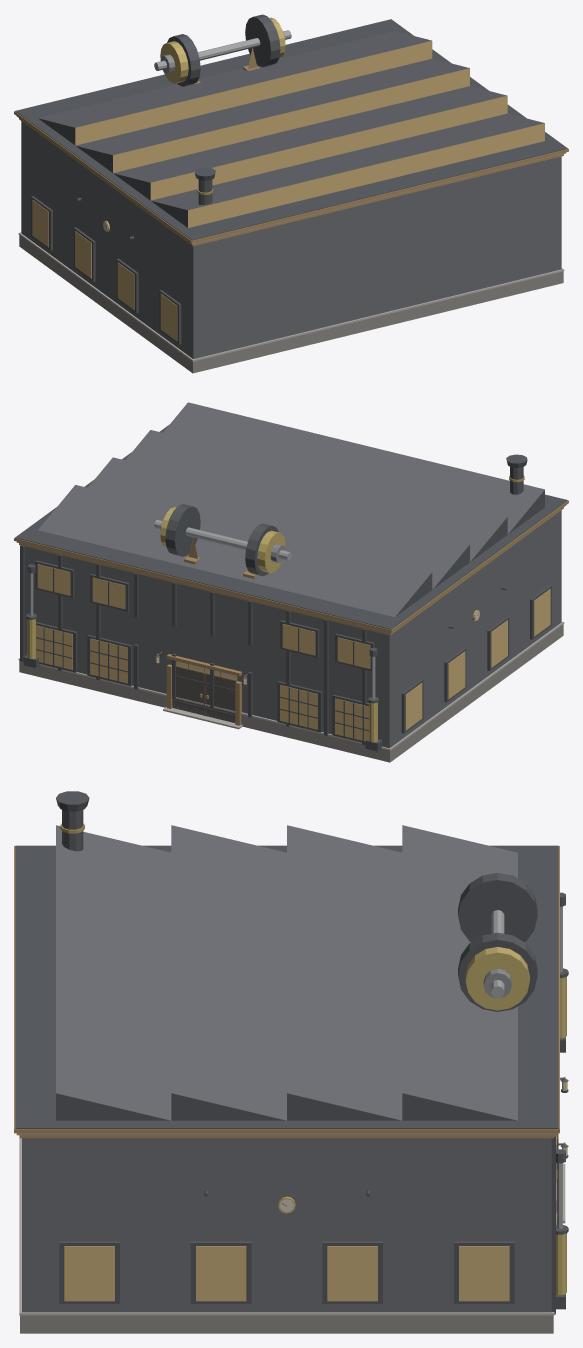
Rendered from centro-academia-68ebeff3.glb.
3 renders of one model, top to bottom at view 1: azimuth 30°, elevation 25°; view 2: azimuth 150°, elevation 25°; view 3: azimuth 270°, elevation 25°, orthographic. The views are drawn at different scales.
Visible parts, largest first — view 1: centro_academia_body, centro_academia_lamp, centro_academia_wall, centro_academia_glow; view 2: centro_academia_body, centro_academia_lamp, centro_academia_wall, centro_academia_glow; view 3: centro_academia_body, centro_academia_lamp, centro_academia_wall, centro_academia_glow.
Boxes of the visible parts, x1=… form: centro_academia_body: x1=14, y1=19, x2=568, y2=361; centro_academia_lamp: x1=32, y1=41, x2=544, y2=340; centro_academia_wall: x1=19, y1=235, x2=563, y2=373; centro_academia_glow: x1=154, y1=14, x2=291, y2=86; centro_academia_body: x1=14, y1=402, x2=568, y2=751; centro_academia_lamp: x1=36, y1=564, x2=550, y2=741; centro_academia_wall: x1=19, y1=624, x2=563, y2=762; centro_academia_glow: x1=154, y1=504, x2=291, y2=576; centro_academia_body: x1=14, y1=791, x2=568, y2=1315; centro_academia_lamp: x1=64, y1=1082, x2=567, y2=1301; centro_academia_wall: x1=20, y1=1315, x2=553, y2=1333; centro_academia_glow: x1=458, y1=873, x2=537, y2=1011.
Size of the model in its own units: 19.88 by 9.43 by 16.45.
